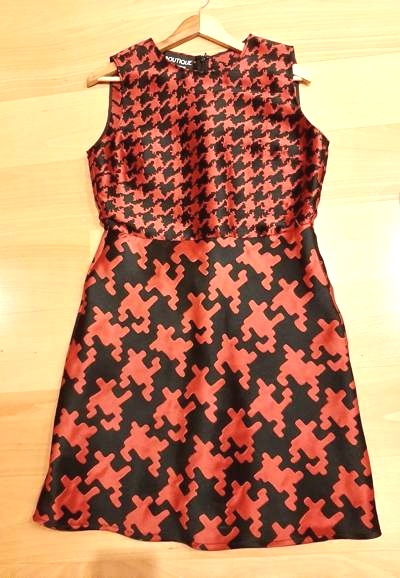Dress: (36, 29, 392, 557)
